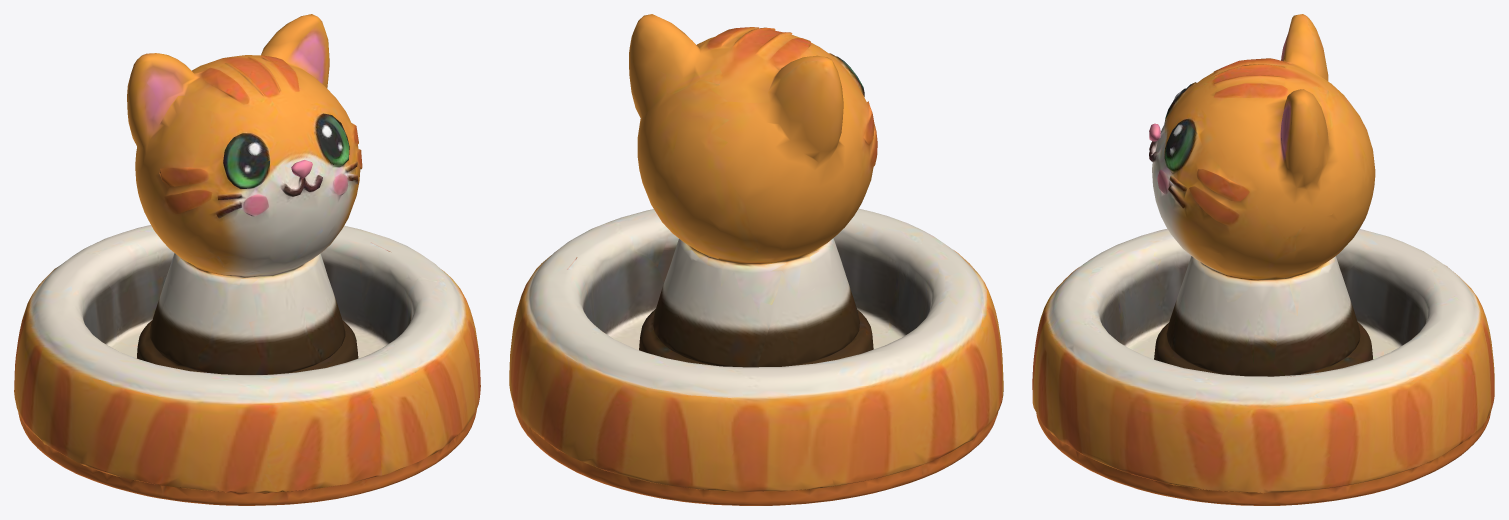
Rendered from mallet-cat.glb.
3 views of the same model, side by side, from view 1: azimuth 30°, elevation 25°; view 2: azimuth 150°, elevation 25°; view 3: azimuth 270°, elevation 25° (orthographic). The views are drawn at different scales.
Visible parts, largest first — view 1: tripo_node_a1f24380-564a-4338-849d-cd07ae5ca2cc; view 2: tripo_node_a1f24380-564a-4338-849d-cd07ae5ca2cc; view 3: tripo_node_a1f24380-564a-4338-849d-cd07ae5ca2cc.
Boxes of the visible parts, x1=… form: tripo_node_a1f24380-564a-4338-849d-cd07ae5ca2cc: x1=14, y1=14, x2=480, y2=505; tripo_node_a1f24380-564a-4338-849d-cd07ae5ca2cc: x1=509, y1=14, x2=1003, y2=505; tripo_node_a1f24380-564a-4338-849d-cd07ae5ca2cc: x1=1032, y1=14, x2=1494, y2=505.
Bounding box in the file's own units: 1 × 0.8502 × 0.9957.
Materials: 1 (1 with a texture image).
